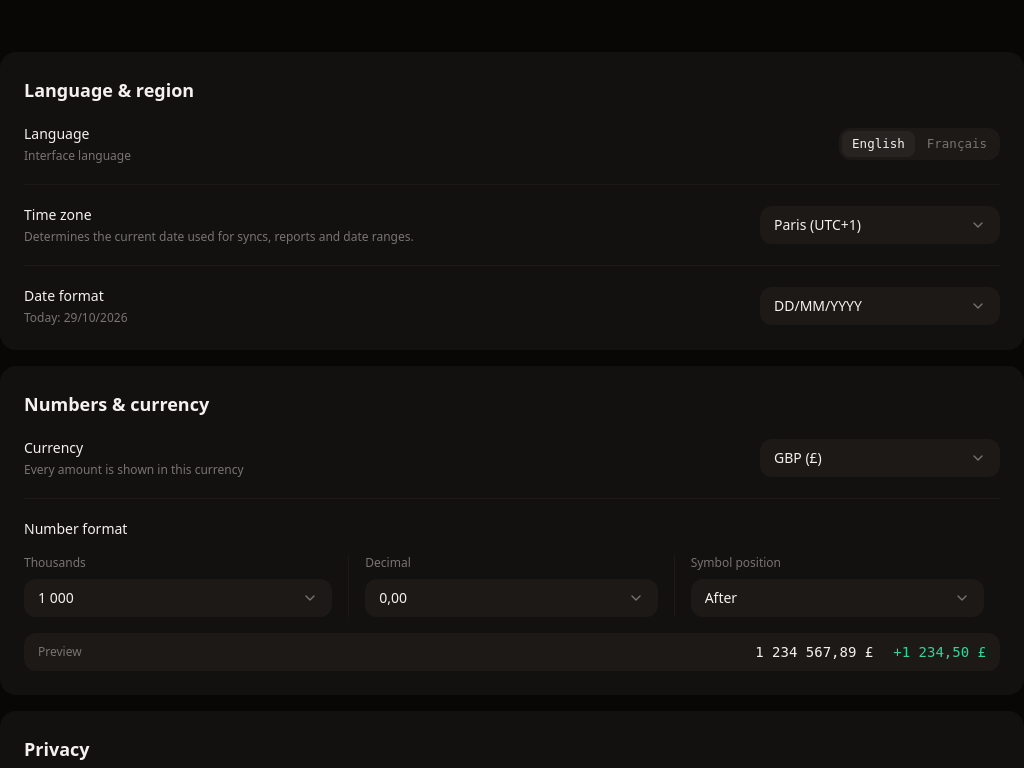
Test: a currency the server can't get a rate for is refused and the old one stays
Expected: the text "1 234 567,89 £" is shown, [755,642,873,662]
Click the button "GBP (£)": (880, 458) [760,439,1000,477]
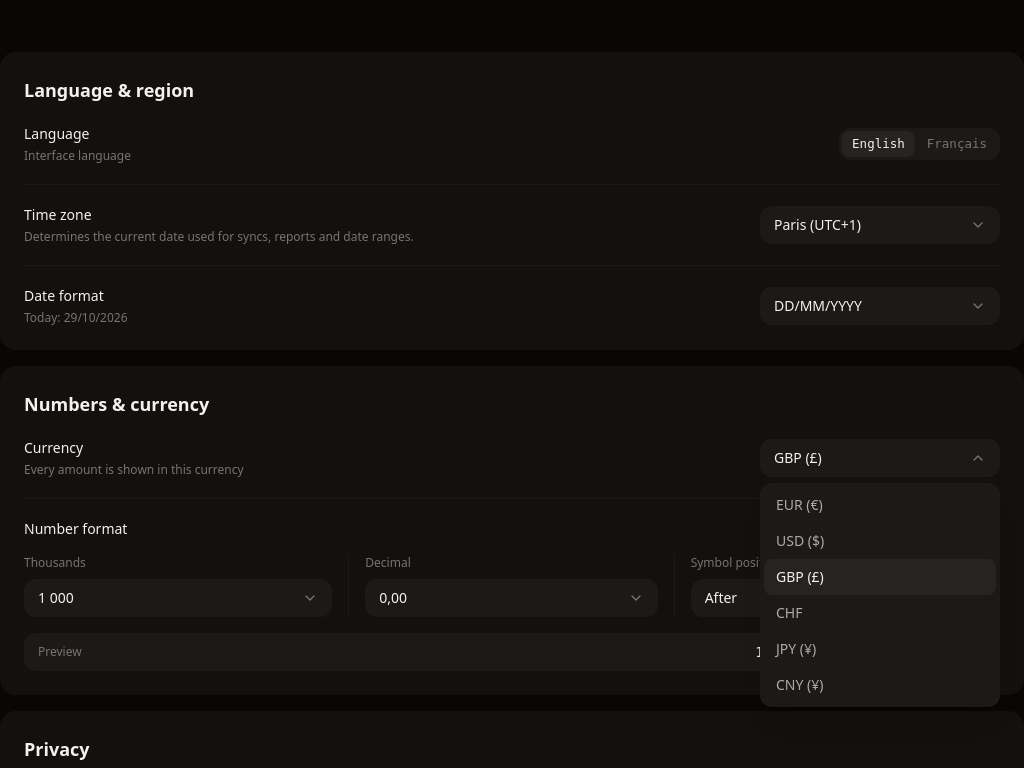
Click the button "USD ($)": (880, 541) [764,523,996,559]
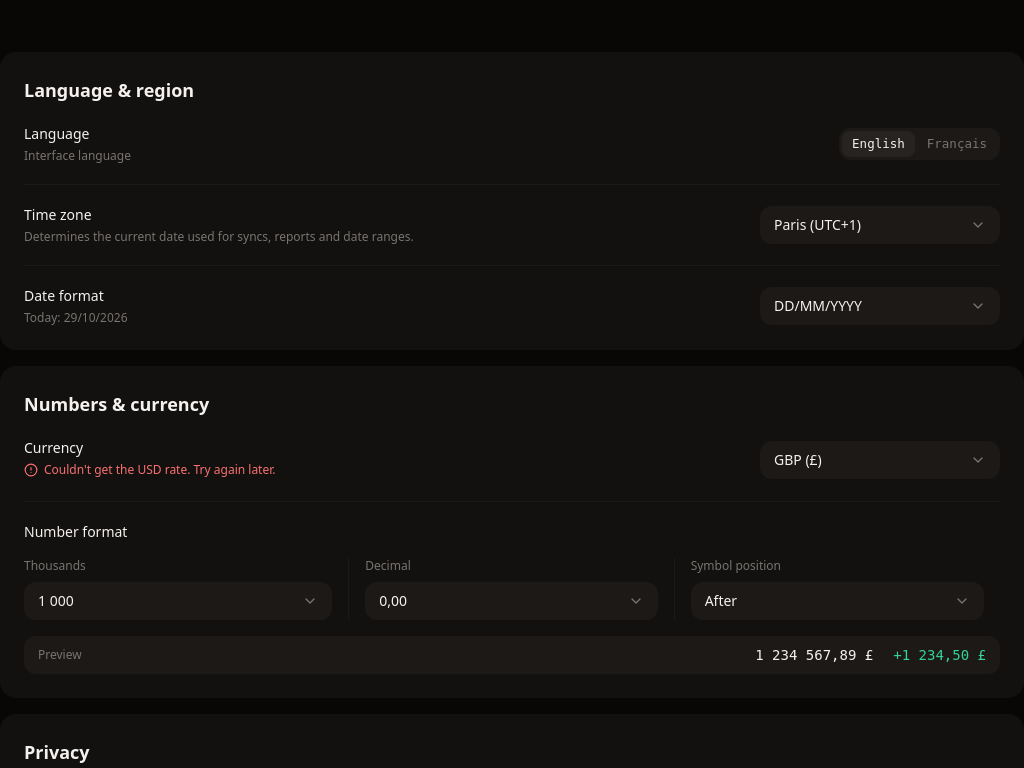
Expected: the text "GBP (£)" is shown, [774,450,822,470]
Now the message reads "Couldn't get the USD rate. Try again later.", box [44,461,276,478]
